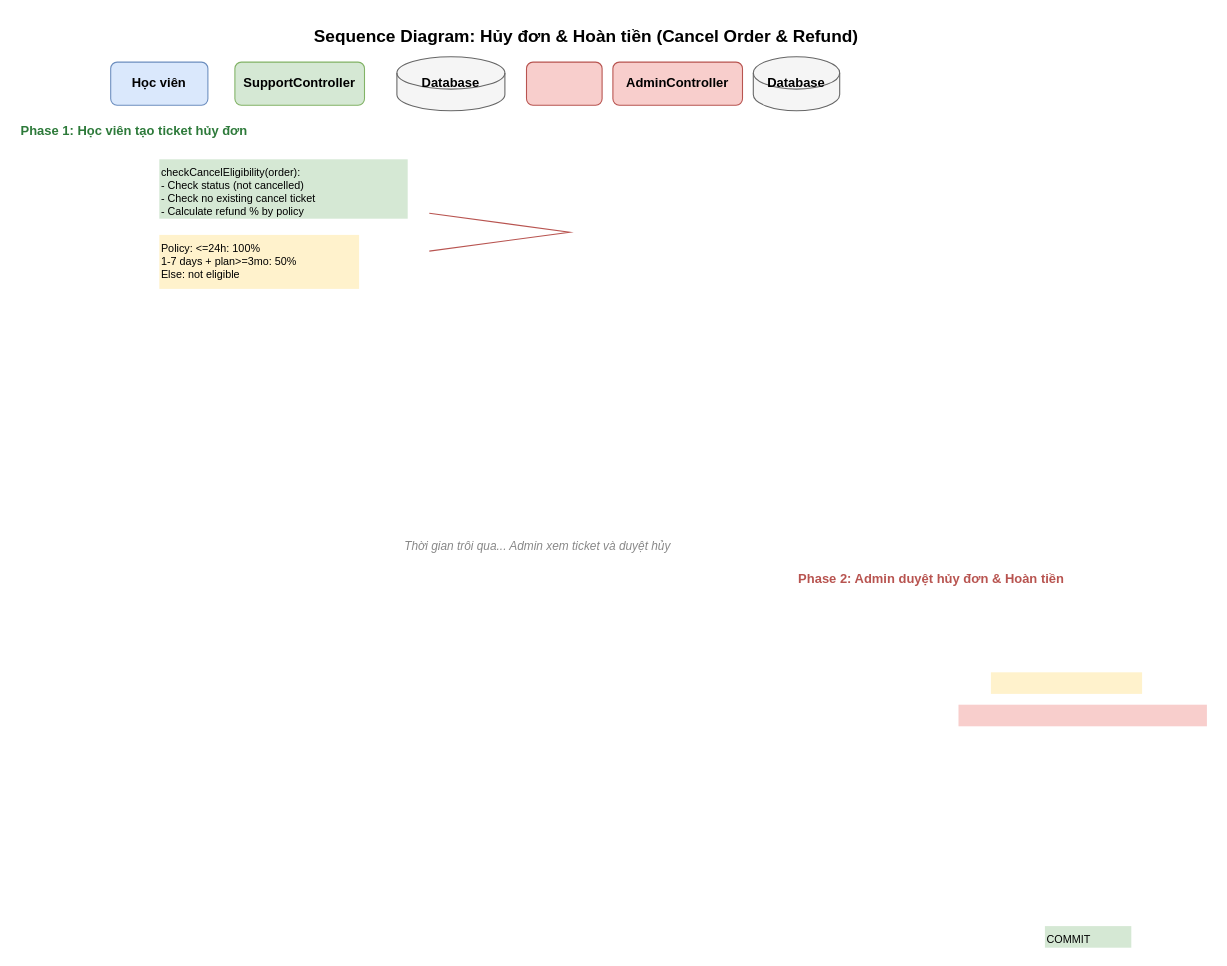
This 1227x966 diagram has some shape labels left out. Each missing label, with the centre of its shape:
"Admin" belongs at (563,83).
"alt [not eligible]" belongs at (499,231).
"BEGIN TRANSACTION" belongs at (1066,682).
"refundAmount = order.amount * refundPercent / 100" belongs at (1082,715).
